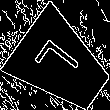L_SE: (34, 37, 89, 92)
